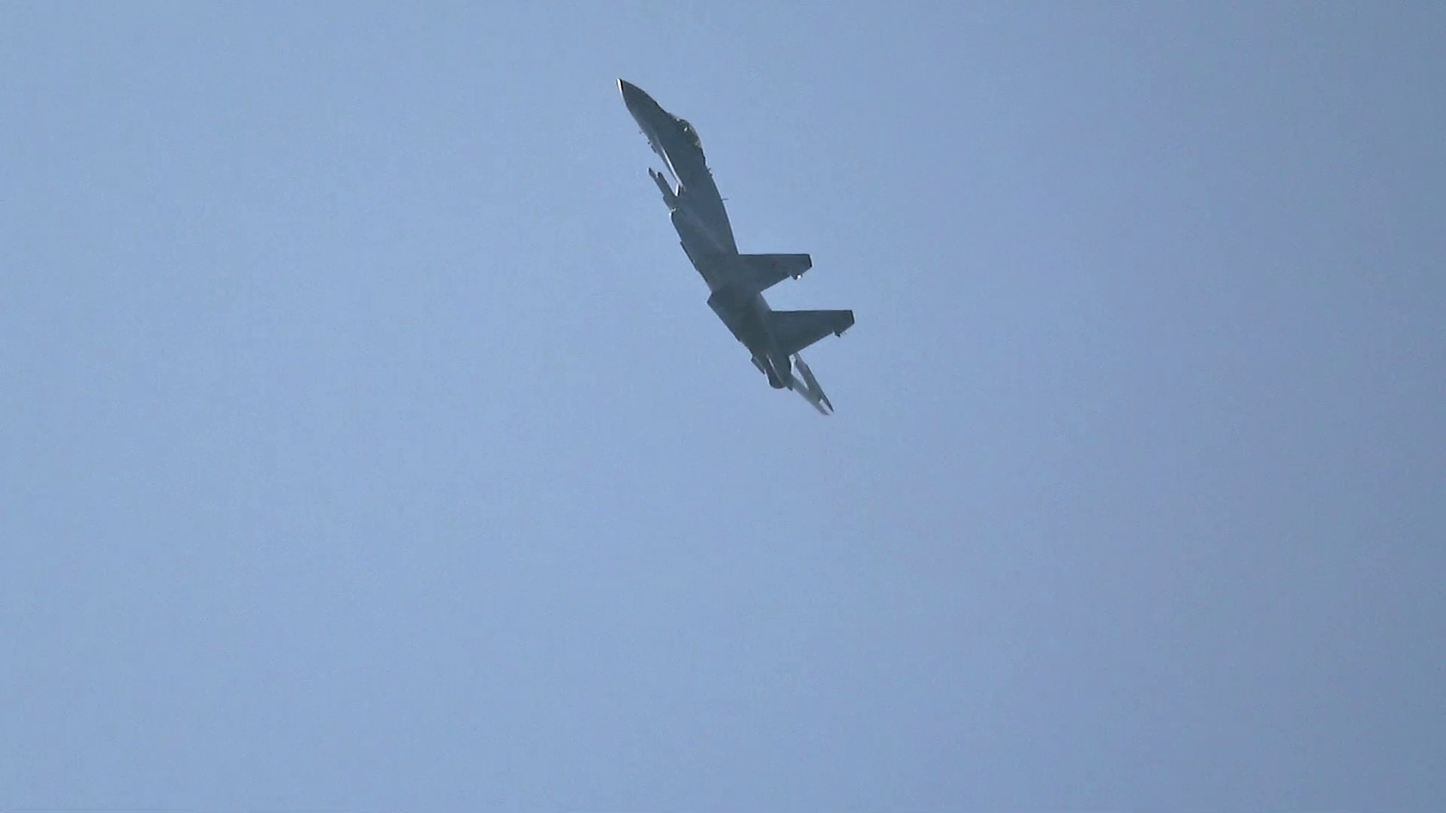Su35: (616, 78, 855, 416)
